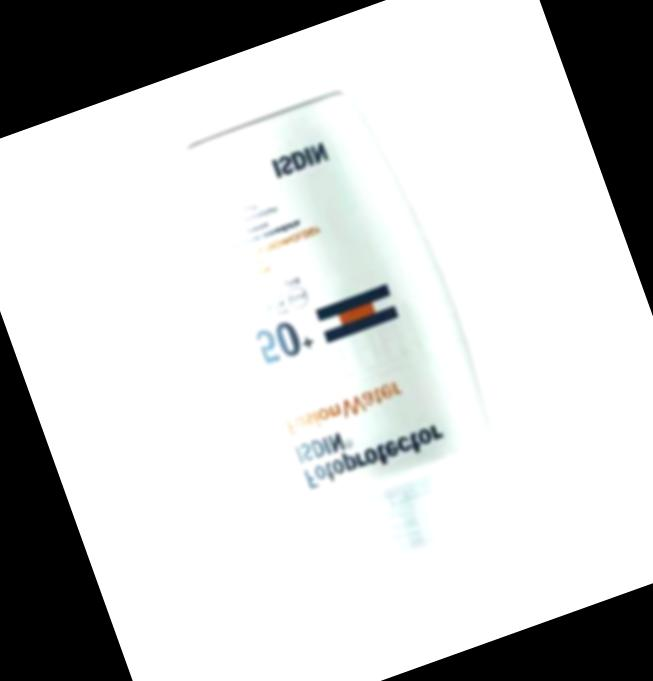cosmetic: (166, 79, 534, 630)
